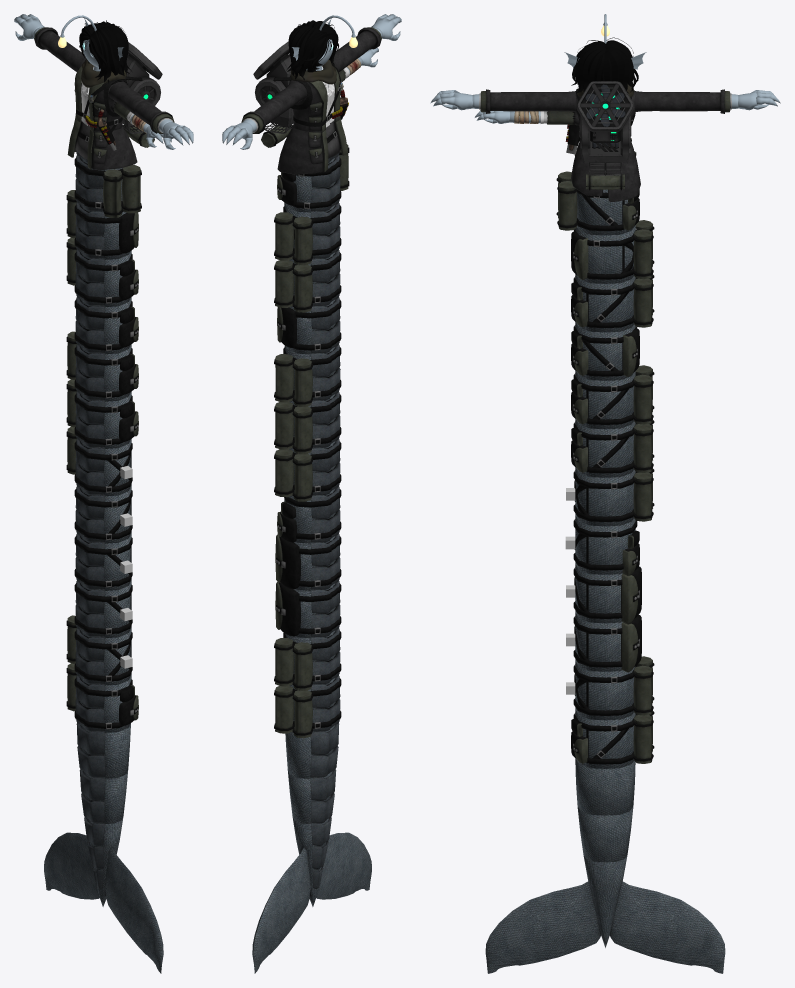
File: SebastianSolace.fbx
The picture shows the model from 3 angles, left to right: view 1: azimuth 30°, elevation 25°; view 2: azimuth 150°, elevation 25°; view 3: azimuth 270°, elevation 25°; orthographic projection. The views are drawn at different scales.
Parts seen in each view (by area): view 1: T_END, B5, B3, B6, B12, B2, B1, B11, B7, B4, B10, B8 (+11 smaller); view 2: T_END, B2, B5, B11, B7, B3, B6, B12, B10, B9, B4, B8 (+12 smaller); view 3: T_END, BACKP, B2, B5, B12, B6, B3, B11, B7, B1, B10, B9 (+10 smaller).
Boxes of the visible parts, x1,y1,x2,y2 form: T_END: (44,817,163,973); B5: (66,331,138,401); B3: (66,237,138,306); B6: (66,379,138,448); B12: (66,663,138,732); B2: (66,190,138,259); B1: (74,155,141,217); B11: (66,615,132,685); B7: (66,426,132,496); B4: (74,297,138,354); B10: (74,580,132,638); B8: (74,485,132,543); T_END: (252,817,371,973); B2: (274,202,341,265); B5: (274,344,341,406); B11: (274,628,341,690); B7: (274,439,341,501); B3: (274,250,341,312); B6: (274,392,341,454); B12: (274,676,341,738); B10: (275,581,341,638); B9: (275,534,341,590); B4: (277,297,341,354); B8: (277,486,341,543); T_END: (485,855,725,973); BACKP: (576,81,635,190); B2: (571,220,654,283); B5: (571,365,654,429); B12: (571,710,654,768); B6: (571,419,654,477); B3: (571,274,654,332); B11: (573,656,654,720); B7: (573,467,654,526); B1: (556,171,639,235); B10: (573,613,641,672); B9: (573,564,641,623).
Size of the model in its own units: 613 by 5534 by 1861.
Materials: 8 (4 with a texture image).
